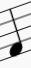note: (8, 8, 23, 57)
